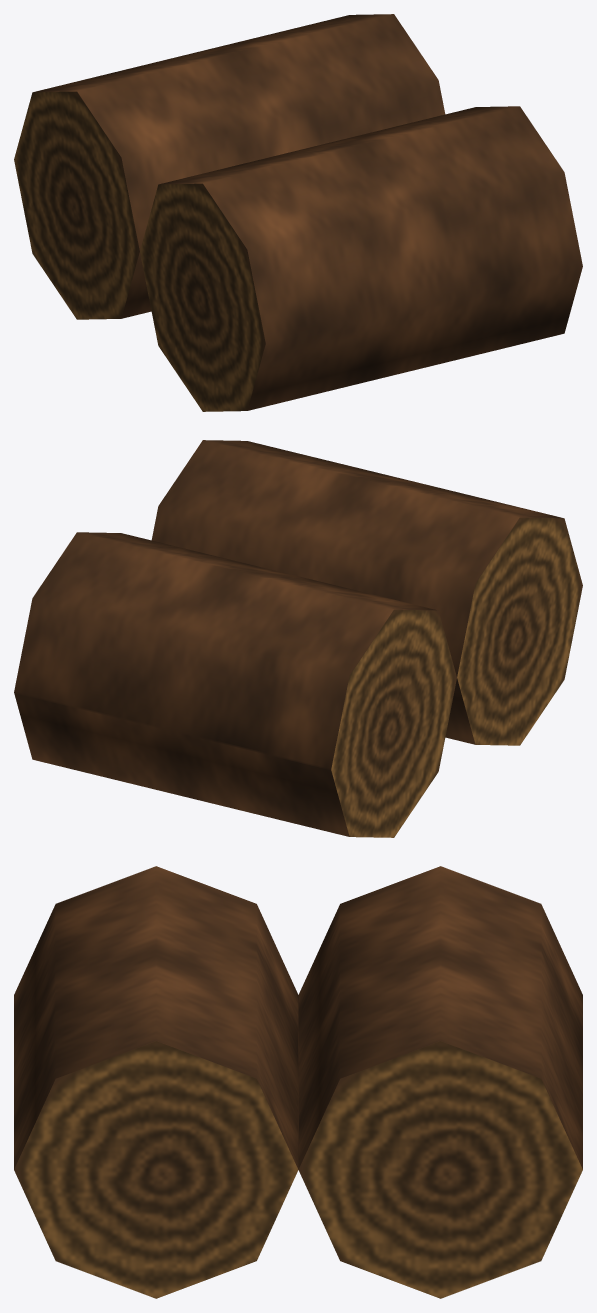
File: wood_2.glb
3 views of the same model, one above another, from view 1: azimuth 30°, elevation 25°; view 2: azimuth 150°, elevation 25°; view 3: azimuth 270°, elevation 25° (orthographic). The views are drawn at different scales.
Visible parts, largest first — view 1: wood; view 2: wood; view 3: wood.
Boxes of the visible parts, x1=… form: wood: x1=14, y1=14, x2=582, y2=411; wood: x1=14, y1=440, x2=582, y2=837; wood: x1=14, y1=866, x2=582, y2=1298.
Bounding box in the file's own units: 0.32 × 0.22 × 0.44.
Materials: 2 (2 with a texture image).
